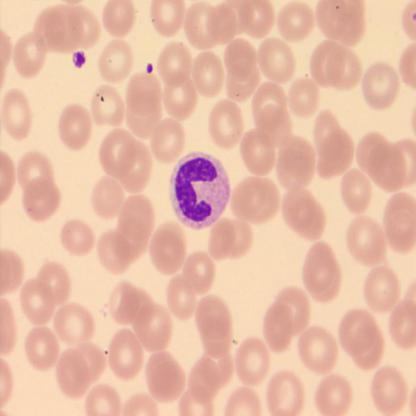Band Neutrophil: (166, 148, 231, 232)
